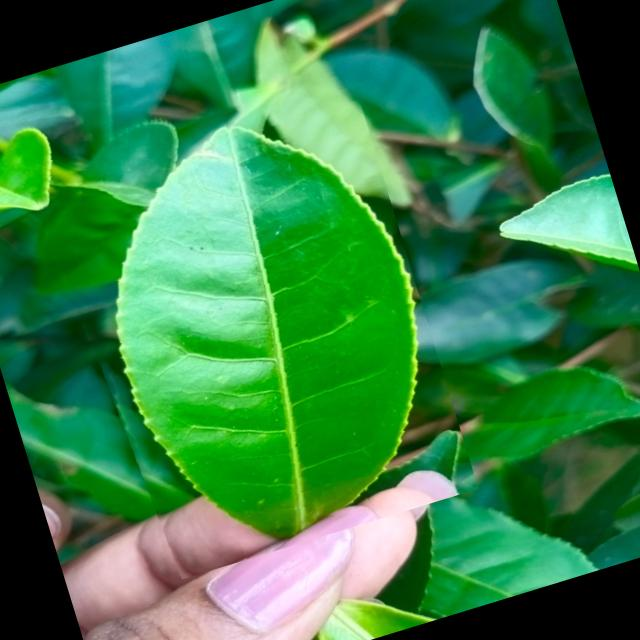Category D(7+ days, Not for Tea): (22, 60, 478, 588)
